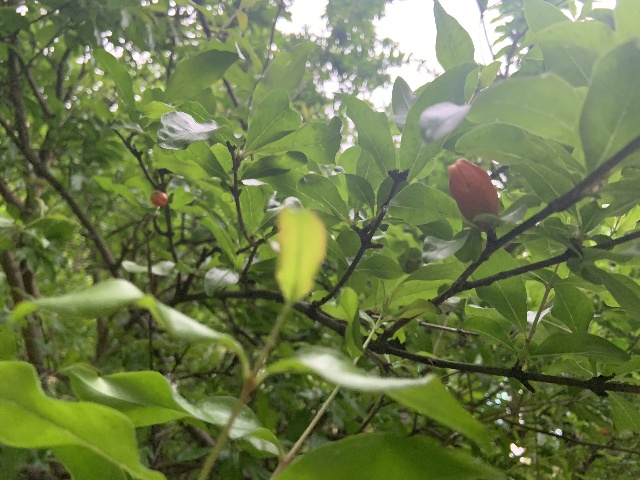bud: (447, 157, 500, 226), (150, 190, 167, 206)
